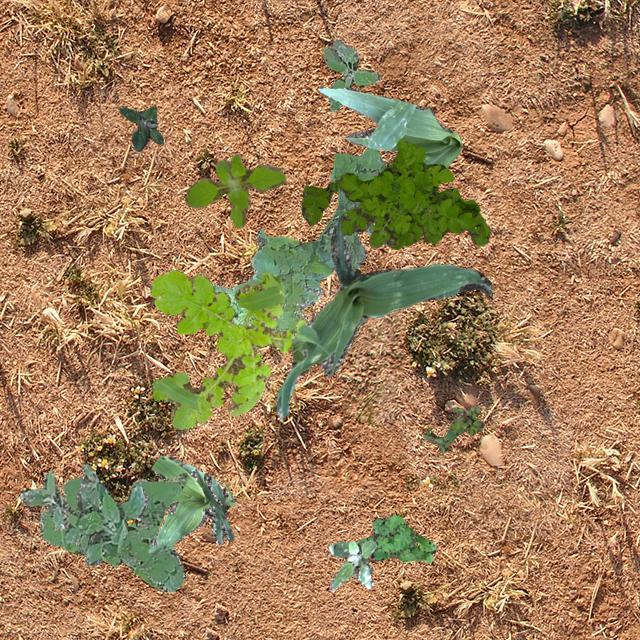crop: (276, 212, 490, 420), (318, 86, 460, 168), (147, 452, 236, 552)
weed: (212, 146, 386, 332), (148, 268, 308, 428), (300, 138, 490, 248), (39, 472, 188, 590), (19, 462, 148, 564), (183, 152, 284, 226), (322, 38, 379, 110), (356, 514, 436, 562), (422, 406, 484, 452), (328, 540, 376, 588), (119, 106, 162, 150)
